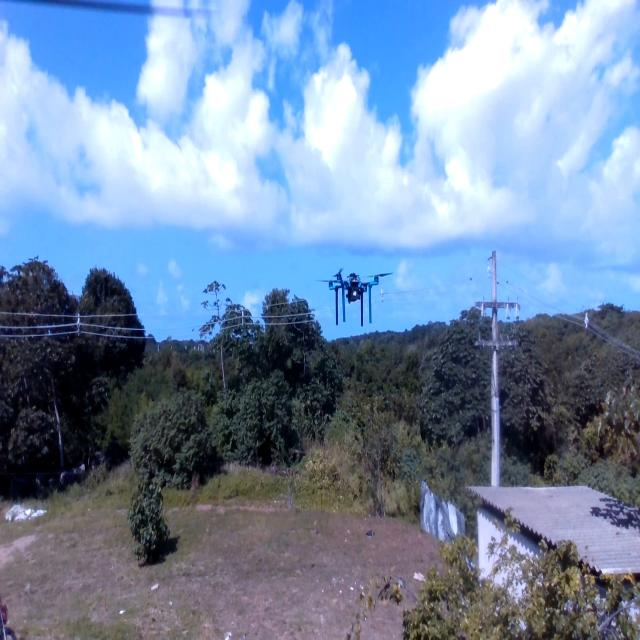-uav-: (317, 260, 395, 330)
